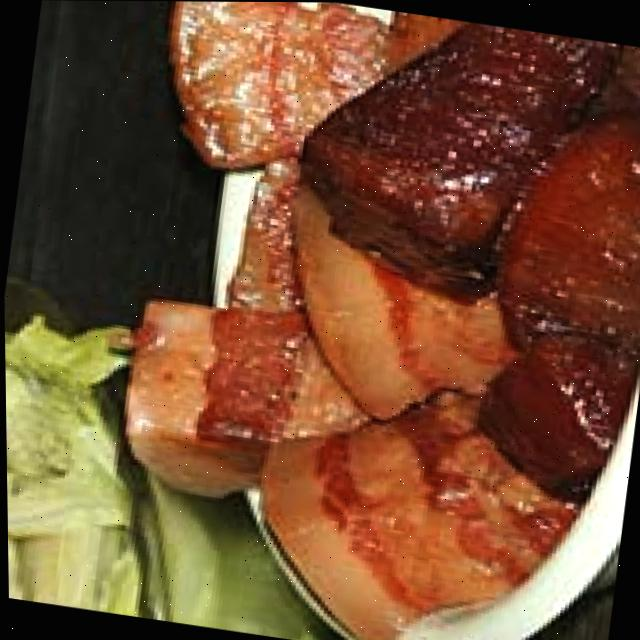猪肉菜式: (63, 0, 640, 640)
